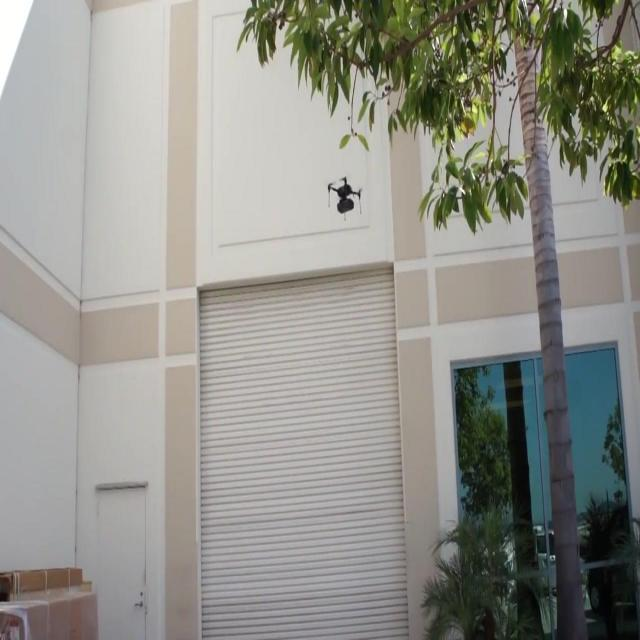UAV: (327, 176, 363, 221)
